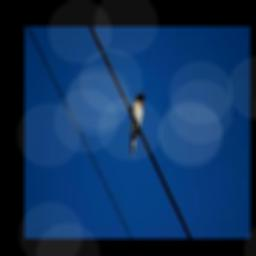Swallow: (128, 91, 144, 156)
